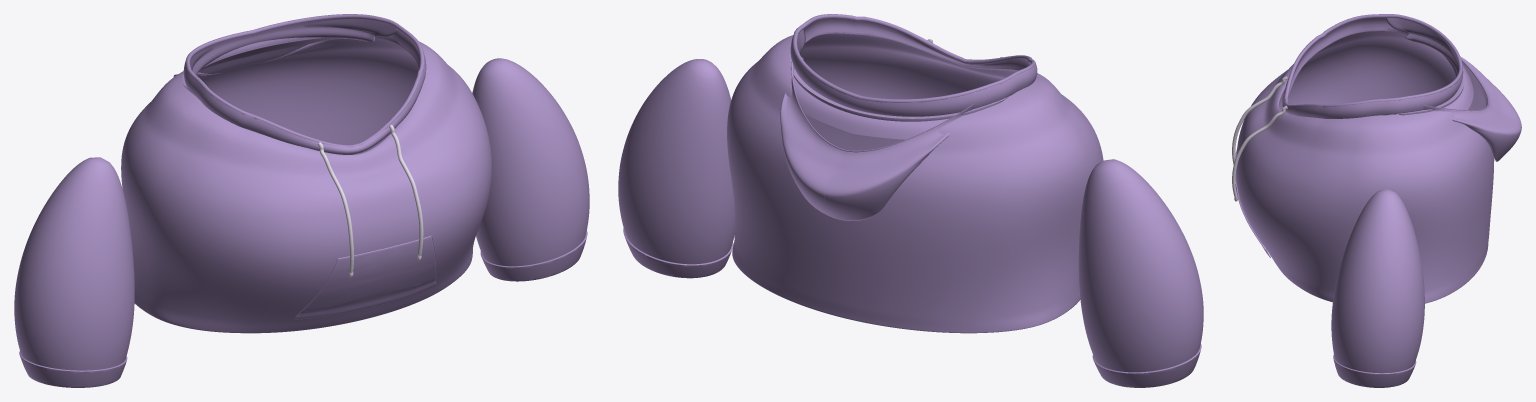
The model's file is Feminine-hoodie-top.glb.
3 views of the same model, side by side, from view 1: azimuth 30°, elevation 25°; view 2: azimuth 150°, elevation 25°; view 3: azimuth 270°, elevation 25° (orthographic). The views are drawn at different scales.
Visible parts, largest first — view 1: Clothing / tailored203, Sleeve / full fabric wrap201 -1, Sleeve / full fabric wrap201 1, Hoodie / seated pouch202, Hoodie / attached opening204, Hoodie / rounded resting hood215, Hoodie / rolled opening204, Sleeve / shaped cuff202 -1, Sleeve / shaped cuff202 1, Hoodie / front seated cord205 -1, Hoodie / front seated cord205 1; view 2: Clothing / tailored203, Sleeve / full fabric wrap201 -1, Sleeve / full fabric wrap201 1, Hoodie / rounded resting hood215, Hoodie / attached opening204, Hoodie / rolled opening204, Sleeve / shaped cuff202 -1, Sleeve / shaped cuff202 1; view 3: Clothing / tailored203, Sleeve / full fabric wrap201 1, Hoodie / rounded resting hood215, Hoodie / attached opening204, Hoodie / rolled opening204, Sleeve / shaped cuff202 1, Hoodie / front seated cord205 1, Hoodie / front seated cord205 -1.
Part boxes in pixels (x1,y1,x2,y2): Clothing / tailored203: [121, 37, 491, 333]; Sleeve / full fabric wrap201 -1: [14, 157, 134, 370]; Sleeve / full fabric wrap201 1: [472, 58, 589, 266]; Hoodie / seated pouch202: [295, 235, 435, 319]; Hoodie / attached opening204: [182, 18, 426, 154]; Hoodie / rounded resting hood215: [173, 18, 397, 76]; Hoodie / rolled opening204: [185, 14, 424, 147]; Sleeve / shaped cuff202 -1: [19, 351, 127, 387]; Sleeve / shaped cuff202 1: [480, 230, 587, 281]; Hoodie / front seated cord205 -1: [317, 142, 353, 272]; Hoodie / front seated cord205 1: [389, 125, 423, 256]; Clothing / tailored203: [727, 32, 1103, 333]; Sleeve / full fabric wrap201 -1: [1078, 159, 1203, 372]; Sleeve / full fabric wrap201 1: [618, 59, 735, 264]; Hoodie / rounded resting hood215: [780, 29, 974, 220]; Hoodie / attached opening204: [789, 18, 1037, 121]; Hoodie / rolled opening204: [792, 14, 1035, 102]; Sleeve / shaped cuff202 -1: [1092, 343, 1201, 387]; Sleeve / shaped cuff202 1: [623, 228, 733, 278]; Clothing / tailored203: [1236, 30, 1494, 303]; Sleeve / full fabric wrap201 1: [1331, 188, 1424, 373]; Hoodie / rounded resting hood215: [1385, 17, 1521, 161]; Hoodie / attached opening204: [1282, 17, 1464, 118]; Hoodie / rolled opening204: [1284, 14, 1462, 107]; Sleeve / shaped cuff202 1: [1333, 355, 1416, 387]; Hoodie / front seated cord205 1: [1232, 105, 1287, 197]; Hoodie / front seated cord205 -1: [1232, 76, 1287, 164].
Bounding box in the file's own units: 1.06 × 0.4801 × 0.555.
